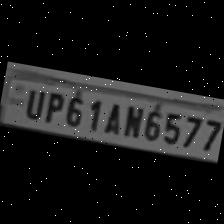1: (82, 94, 106, 130)
5: (158, 106, 185, 144)
6: (60, 90, 86, 127), (138, 104, 164, 140)
7: (196, 113, 222, 152), (178, 110, 203, 148)
A: (98, 97, 125, 135)
N: (118, 100, 144, 139)
P: (40, 86, 66, 123)
U: (19, 83, 46, 119)
